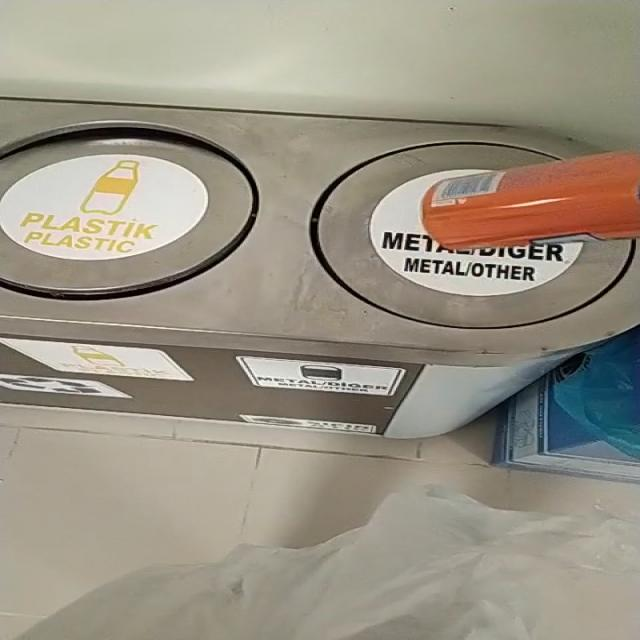bin: (0, 99, 640, 438)
metal: (423, 153, 640, 249)
